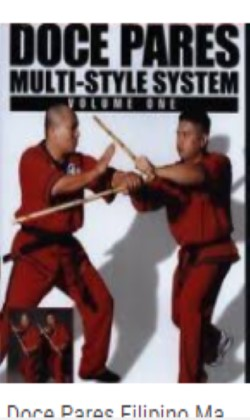baston_e: (17, 184, 127, 229), (99, 115, 138, 167)
baston_v: (8, 214, 24, 231), (146, 169, 158, 181), (90, 109, 97, 123)
